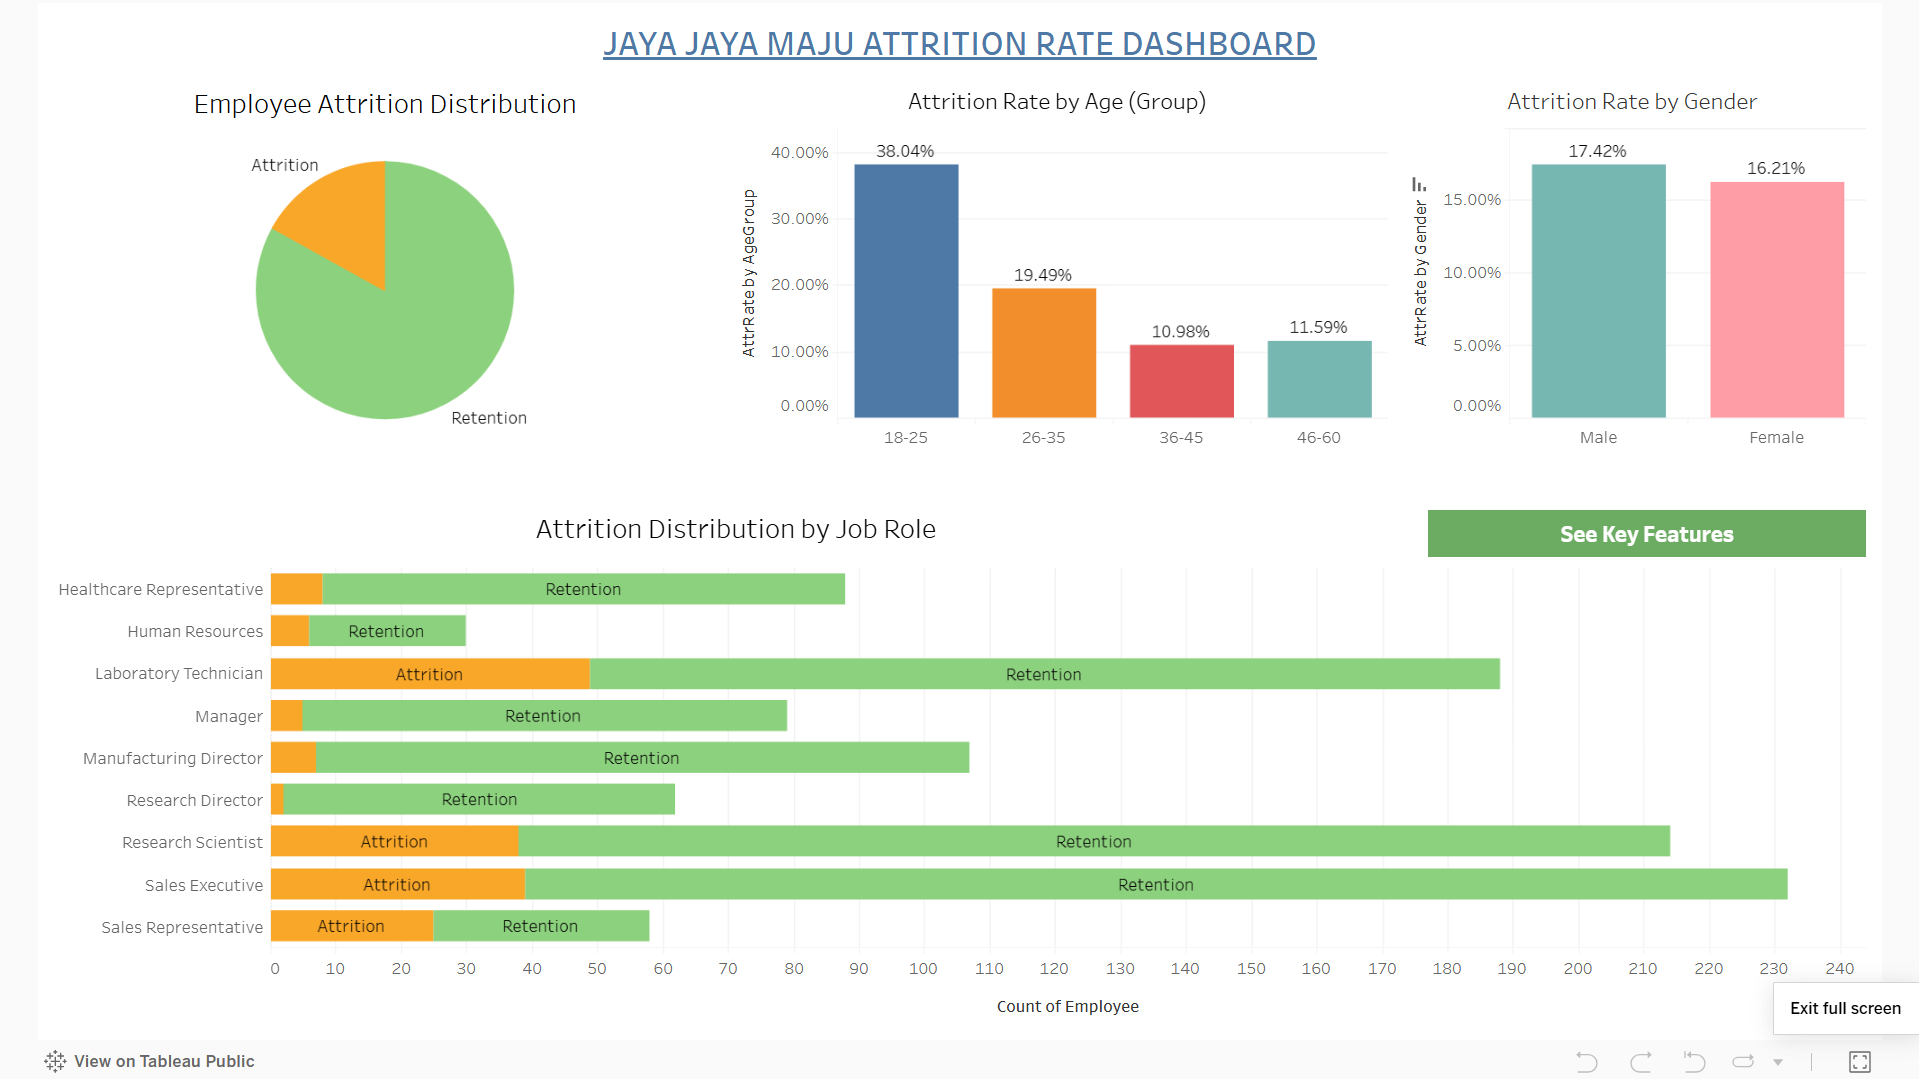

The dashboard page shown, as its layout file describes it:
{"tool":"tableau","page":{"name":"main_dashboard","canvas":[1000,800],"ordinal":0},"visuals":[{"type":"title","box":[8,8,984,42]},{"type":"worksheet","title":"attrition distribution","mark":"Pie","box":[8,50,363,296.2]},{"type":"worksheet","title":"rate by age","mark":"Automatic","rows":["Calculation_1055597523259415"],"box":[371,50,363,296.2]},{"type":"worksheet","title":"rate by gender","mark":"Bar","rows":["Calculation_1055597516345363"],"cols":["Gender"],"box":[734,50,258,296.2]},{"type":"blank","box":[8,346.2,742,30.3]},{"type":"blank","box":[750,346.2,242,39.8]},{"type":"text","box":[8,376.5,742,53.5]},{"type":"dashboard-object","box":[750,386,242,44]},{"type":"worksheet","title":"rate by job role","mark":"Bar","rows":["JobRole"],"cols":["EmployeeId"],"box":[8,430,984,362]}]}

Visuals, with their boxes on the page's 1000x800 design canvas (x1, y1, x2, y2). These are canvas units, not pixel positions in the 1919x1079 screenshot, which may show the page scaled, cropped or inside an application window:
title: left=8, top=8, right=992, bottom=50
"attrition distribution" worksheet (Pie marks): left=8, top=50, right=371, bottom=346
"rate by age" worksheet: left=371, top=50, right=734, bottom=346
"rate by gender" worksheet (Bar marks): left=734, top=50, right=992, bottom=346
blank: left=8, top=346, right=750, bottom=376
blank: left=750, top=346, right=992, bottom=386
text: left=8, top=376, right=750, bottom=430
dashboard-object: left=750, top=386, right=992, bottom=430
"rate by job role" worksheet (Bar marks): left=8, top=430, right=992, bottom=792
